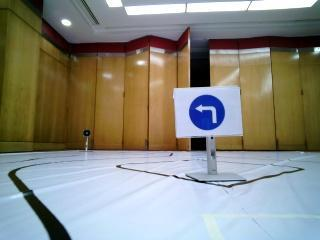left: (177, 91, 239, 134)
